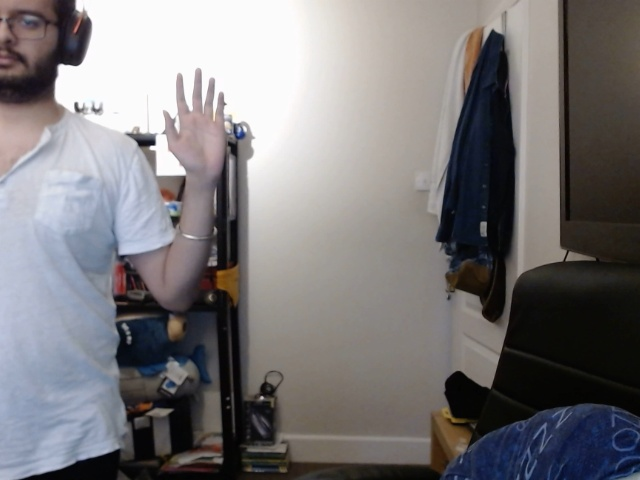Hello: (159, 65, 232, 180)
